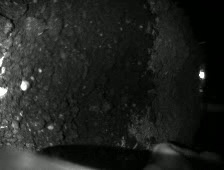corn: (18, 78, 32, 91)
